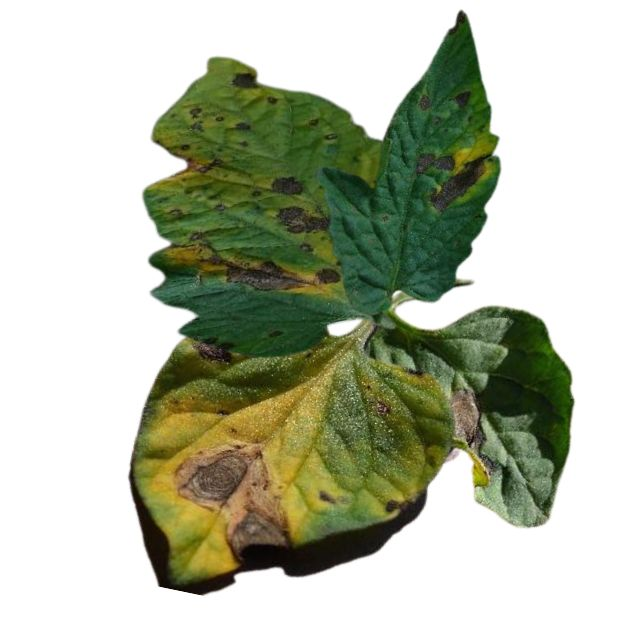Early_blight: (167, 438, 296, 568), (200, 244, 309, 293), (448, 388, 491, 489), (431, 153, 488, 210), (275, 205, 332, 237), (190, 337, 234, 365), (383, 486, 426, 514), (414, 150, 455, 176), (265, 172, 304, 198), (184, 154, 223, 175), (229, 68, 261, 89), (315, 264, 341, 285), (313, 486, 337, 505), (371, 396, 390, 417), (451, 90, 472, 106), (185, 104, 203, 119), (418, 93, 432, 112)
